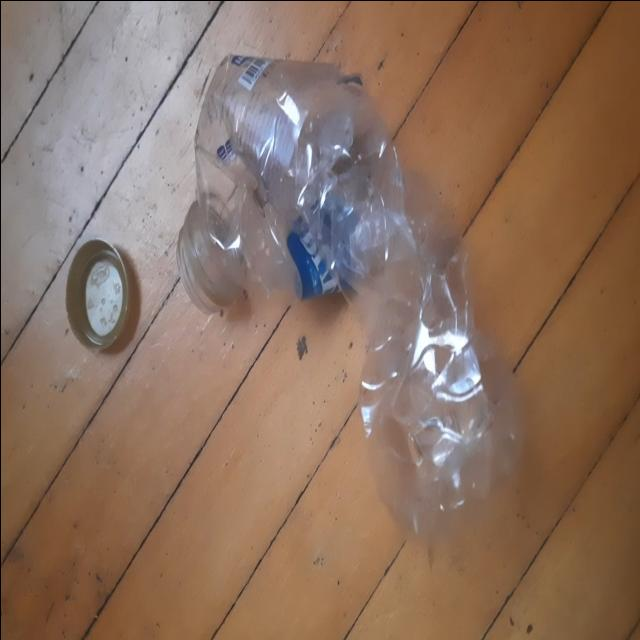Plastic: (185, 54, 517, 542)
